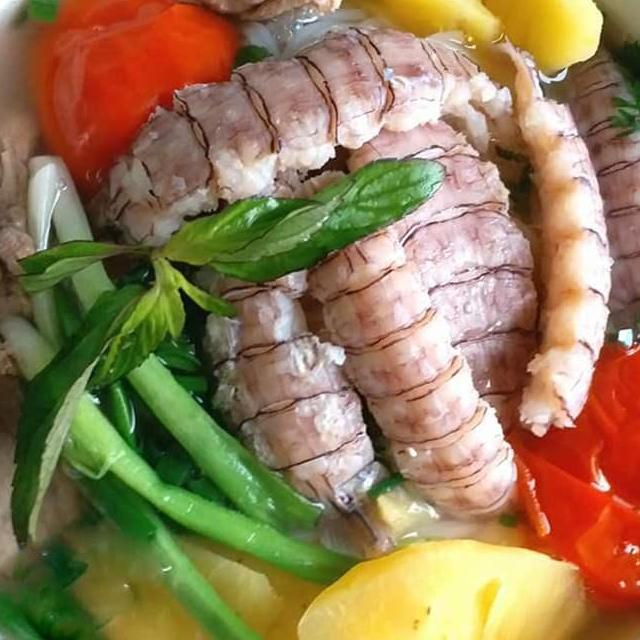thit heo: (0, 326, 94, 586), (0, 92, 52, 349)
tom tit: (83, 20, 519, 258), (274, 164, 531, 528), (197, 162, 420, 572), (337, 86, 553, 442), (481, 24, 623, 446), (543, 25, 640, 359)
